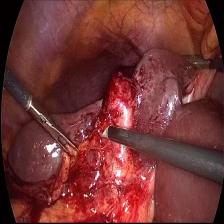Grasper: (25, 96, 80, 165)
Hook: (97, 123, 109, 141)
